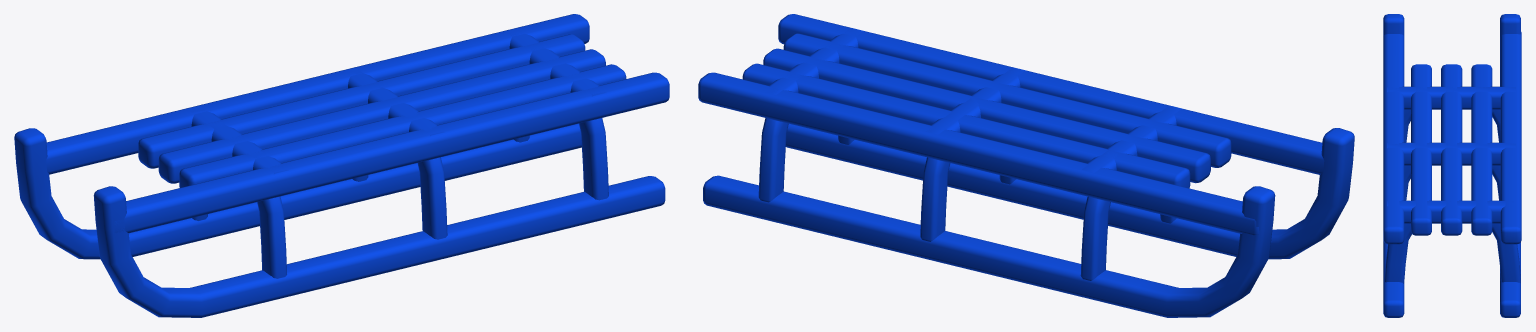
File: sled4model.fbx
3 renders of one model, left to right at view 1: azimuth 30°, elevation 25°; view 2: azimuth 150°, elevation 25°; view 3: azimuth 270°, elevation 25°, orthographic. The views are drawn at different scales.
Parts seen in each view (by area): view 1: Sled; view 2: Sled; view 3: Sled.
Boxes of the visible parts, x1,y1,x2,y2 form: Sled: (14,14,669,317); Sled: (698,14,1354,317); Sled: (1383,14,1521,317).
Size of the model in its own units: 1955 by 479 by 564.
